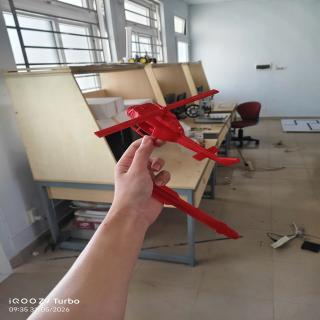Helicopter: (87, 90, 240, 167)
Rocket: (154, 184, 243, 241)
